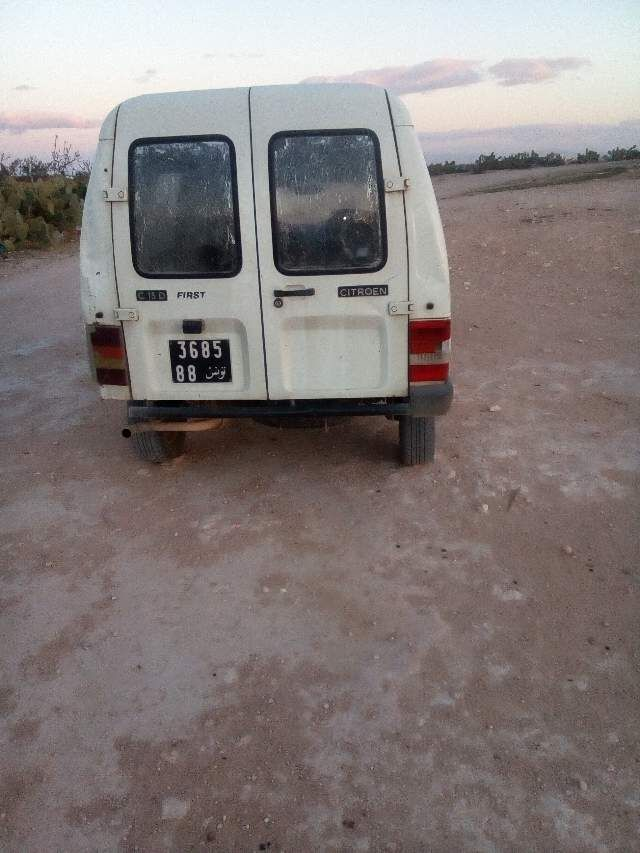LP: (165, 336, 237, 386)
